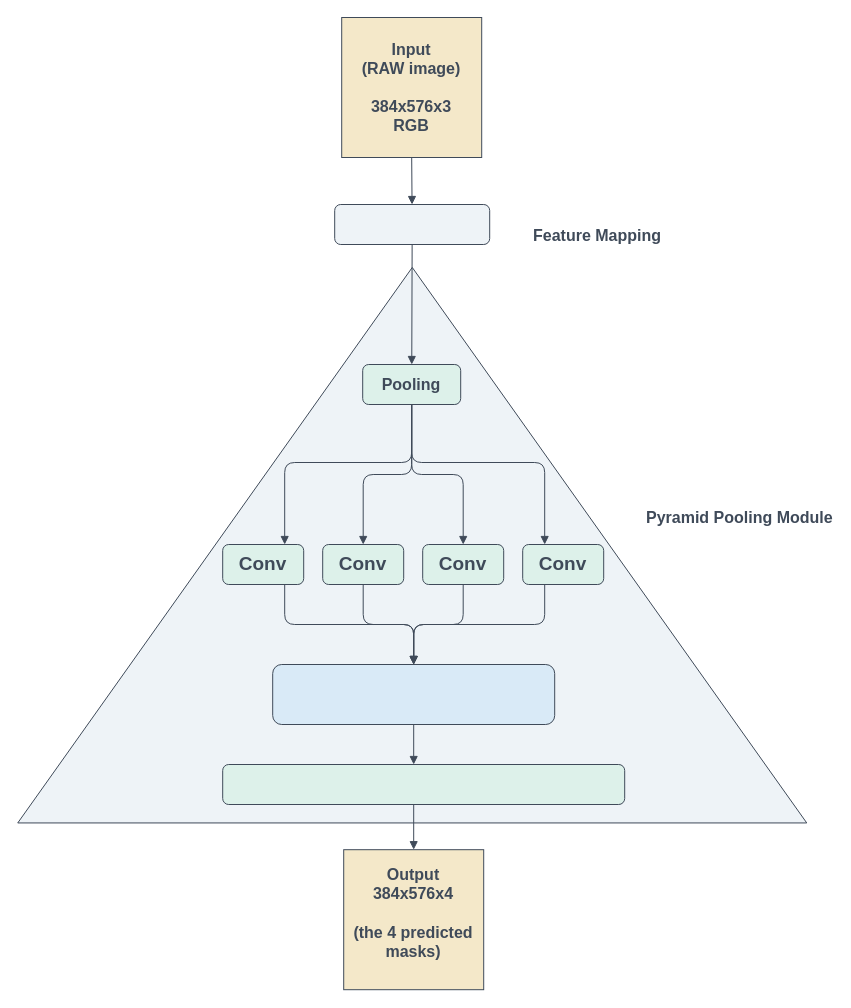
This 851x1008 diagram has some shape labels left out. The shapes that lost their labels are listed below. From the top down, each one's box as (x1, y1, x2, y2) in pixels, then its label:
(334, 204, 490, 244): CNN
(272, 664, 555, 724): Up-Sampling
(222, 764, 625, 804): Flattening
